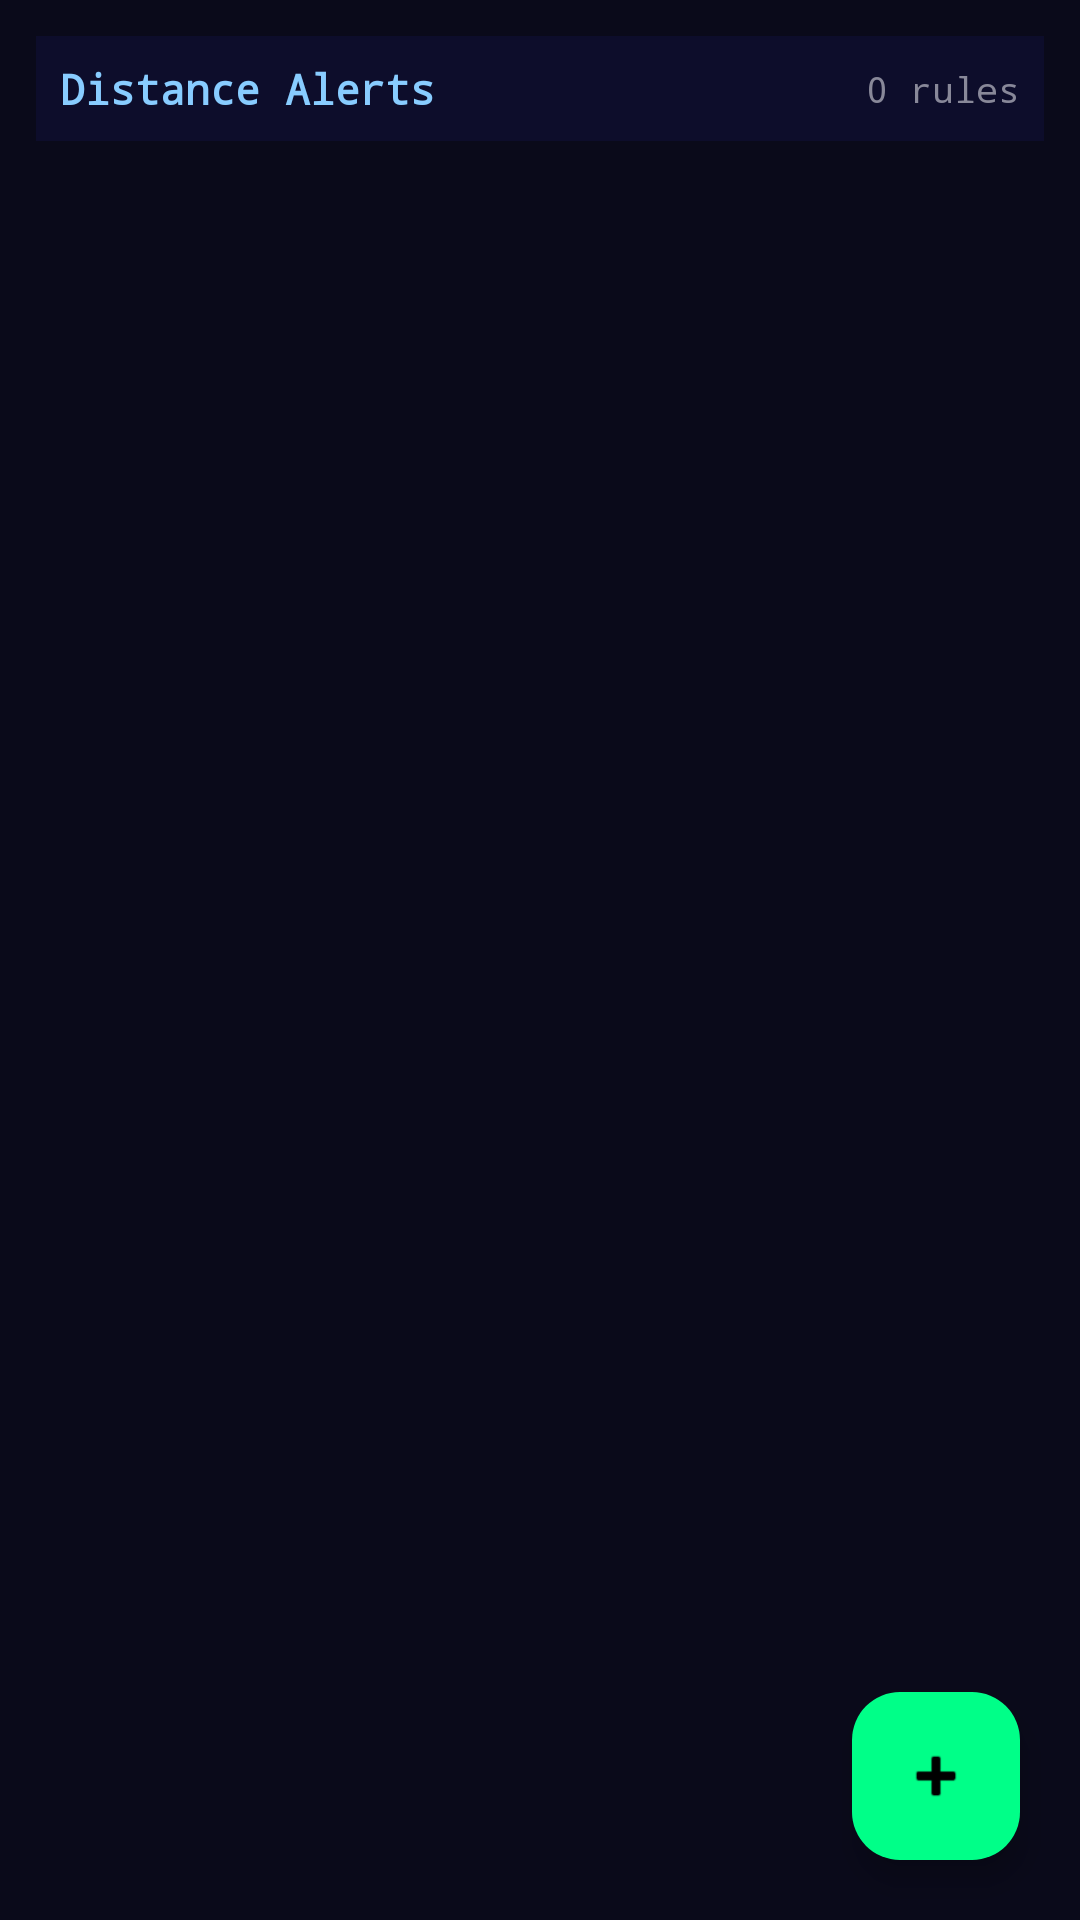

Screen size 1080px×1920px. Icon name, then its box in pixels as [x1, y1, x2, y2]:
Add alert rule: [852, 1692, 1020, 1860]
